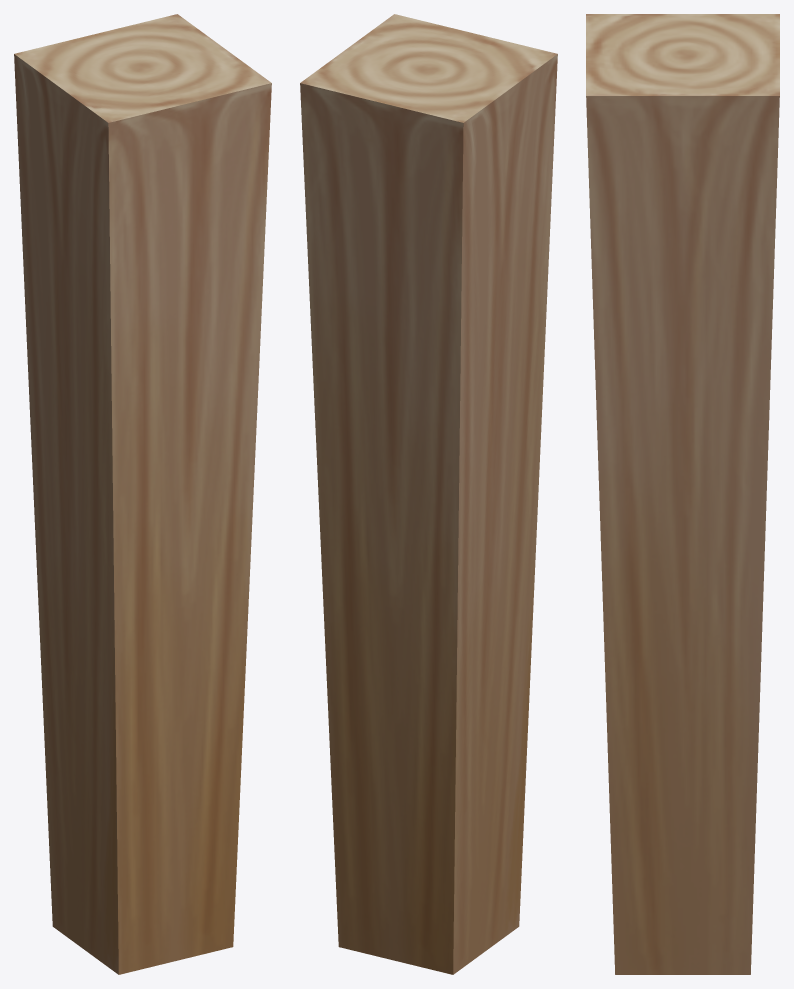
The model's file is fence2_column.FBX.
3 renders of one model, left to right at view 1: azimuth 30°, elevation 25°; view 2: azimuth 150°, elevation 25°; view 3: azimuth 270°, elevation 25°, orthographic. The views are drawn at different scales.
Visible parts, largest first — view 1: fence2_column; view 2: fence2_column; view 3: fence2_column.
Part boxes in pixels (left/top/right/bottom): fence2_column: left=14, top=14, right=271, bottom=974; fence2_column: left=300, top=14, right=557, bottom=974; fence2_column: left=586, top=14, right=779, bottom=974.
Bounding box in the file's own units: 10 × 50.76 × 10.
1 material, 1 textured.
